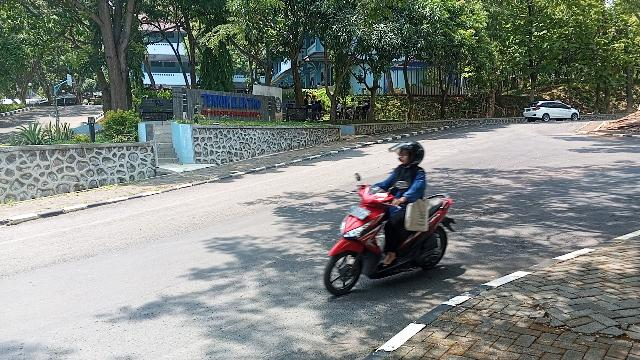helm: (399, 143, 425, 166)
motor: (325, 186, 457, 298)
